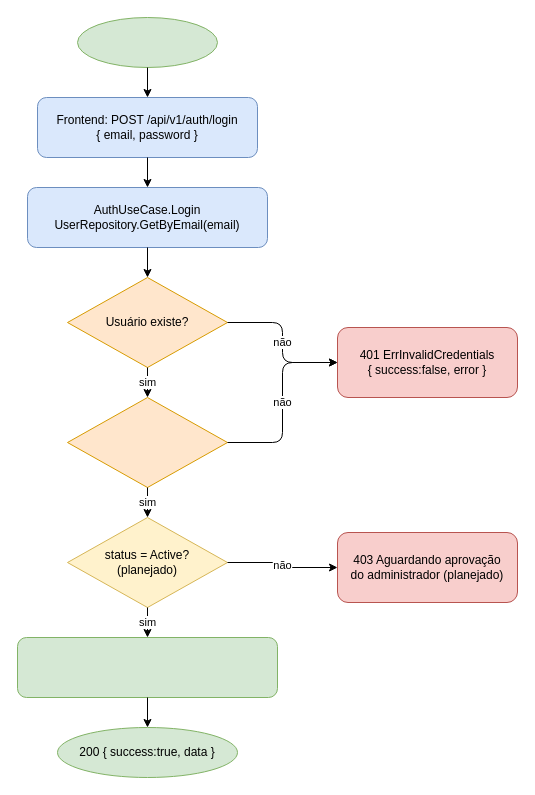
Image size: 535x795. Some labels were removed from this diagram. The box of each missing label's shape, as (x1, y1, x2, y2) in pixels:
bcrypt: senha confere?: (66, 396, 228, 488)
Início do login: (76, 16, 218, 68)
token.Generate (JWT HS256, 24h) retorna { token, expiresAt, user }: (16, 636, 278, 698)
